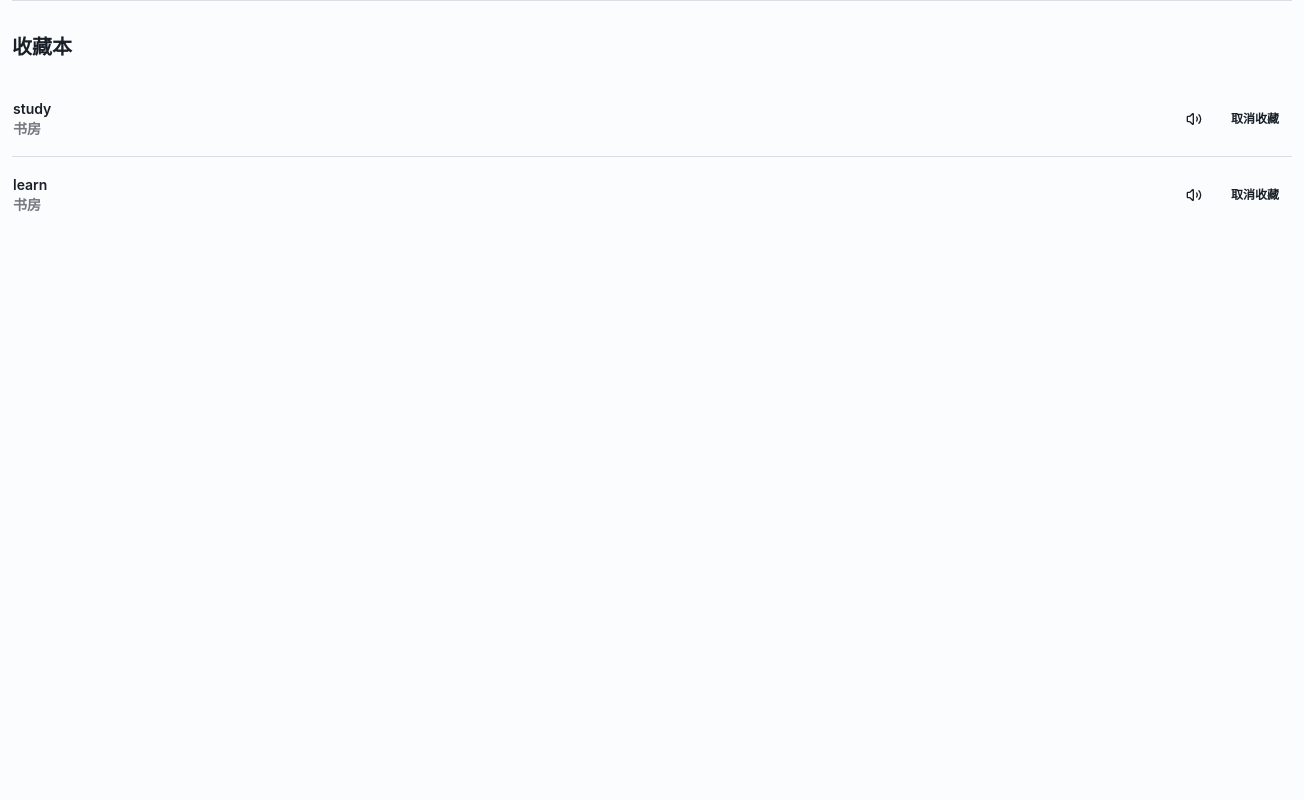
WordFavoritesPanel › preserves the current detail removal error when an older row removal fails
The image size is (1304, 800).
Click the button with aria-label "取消收藏 study": (1255, 118) left=1218, top=102, right=1292, bottom=134
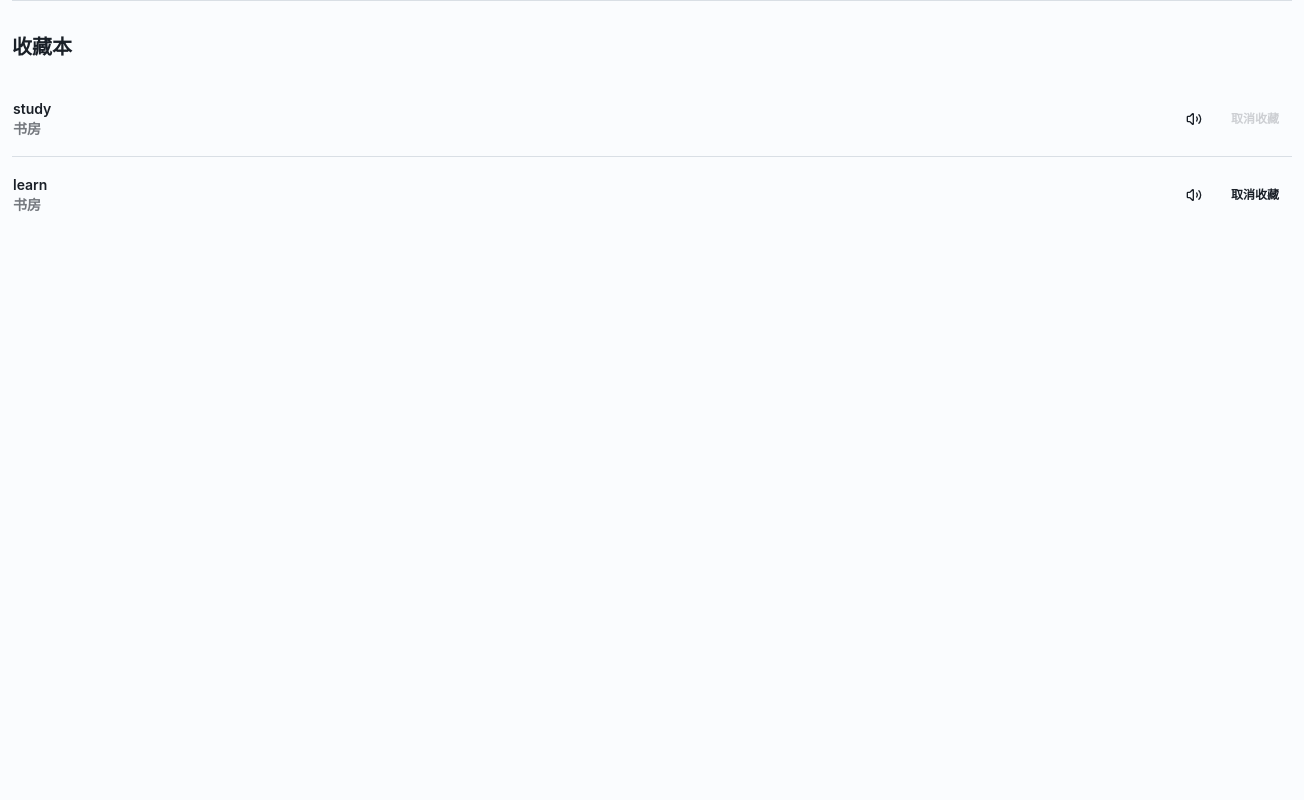
Click the button with aria-label "查看 learn": (30, 184) left=12, top=173, right=1166, bottom=216
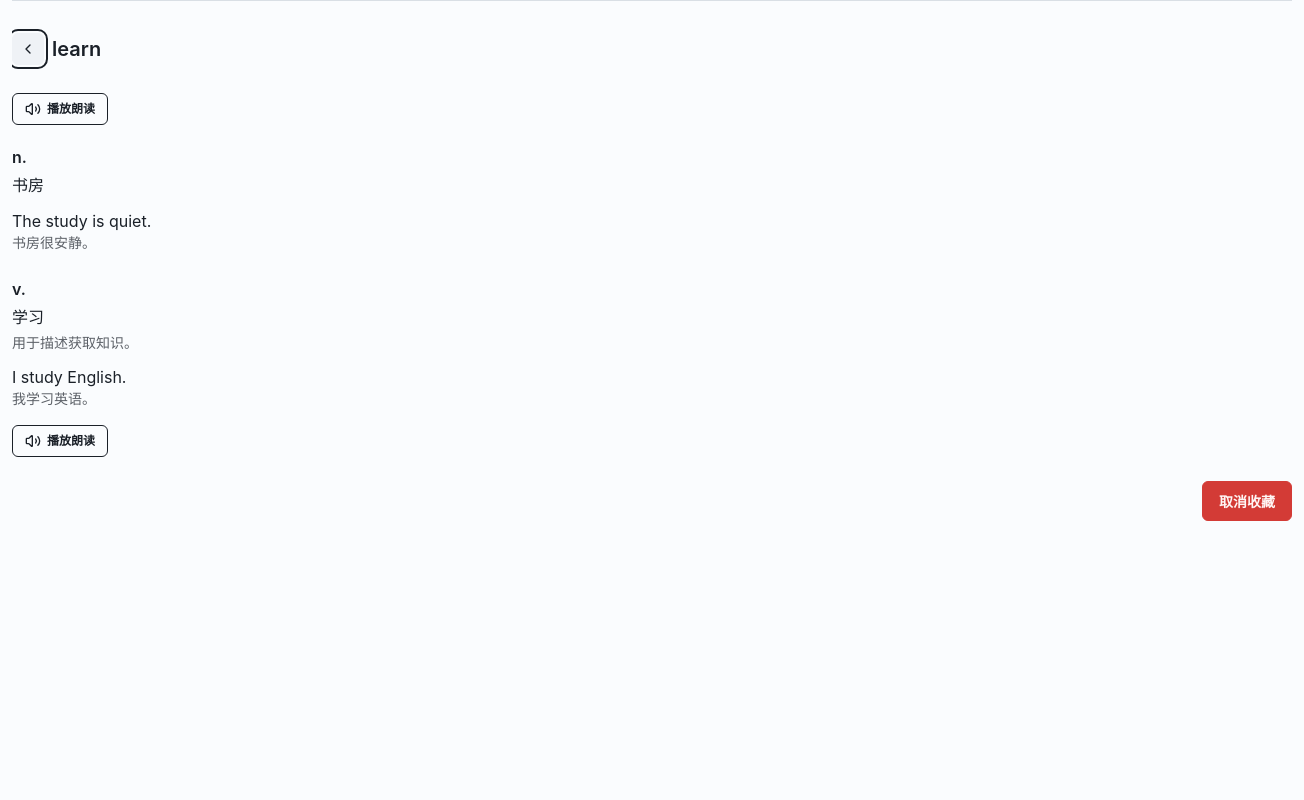
Click the button "取消收藏": (1247, 501) left=1202, top=481, right=1292, bottom=521
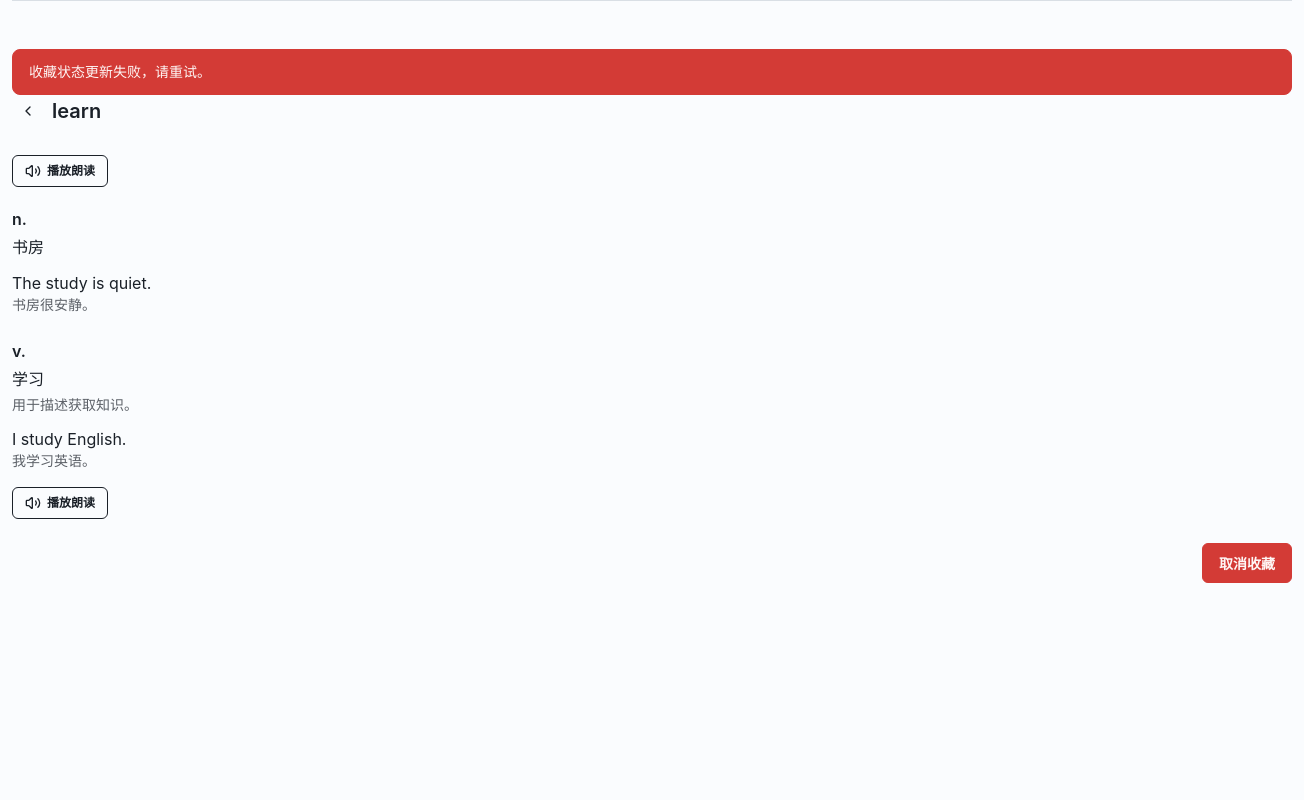
Now the element "learn" is shown, box left=12, top=95, right=1292, bottom=583
Now the message reads "收藏状态更新失败，请重试。", box left=29, top=63, right=211, bottom=80
